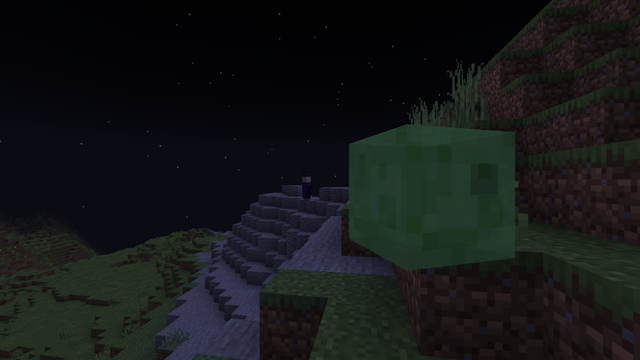slimes: (362, 119, 514, 269)
sorcieres: (301, 175, 310, 200)
